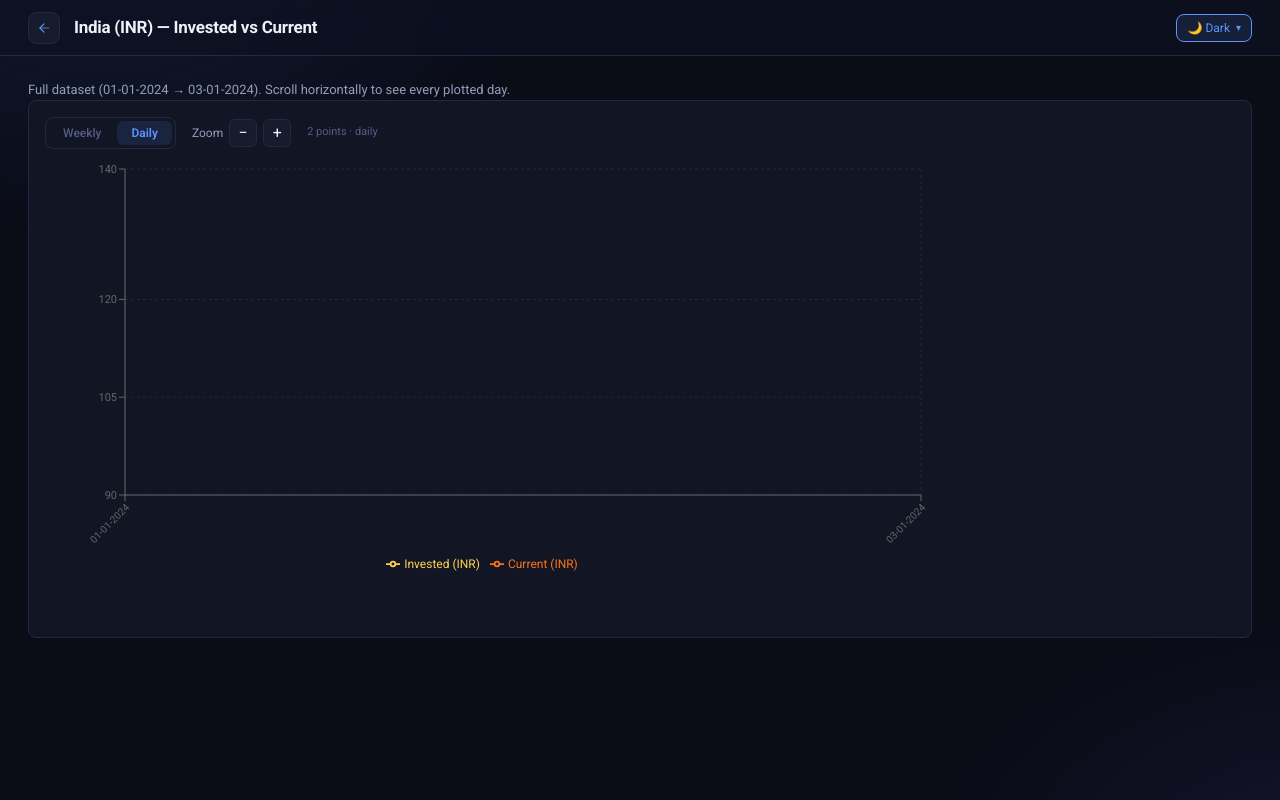
HistoryChartPage › down-samples to weekly close when the Weekly toggle is clicked
Expected: the text "2 points · daily" is shown, [307, 124, 378, 141]
Click the button "Weekly".
click(82, 132)  # box [49, 120, 115, 144]
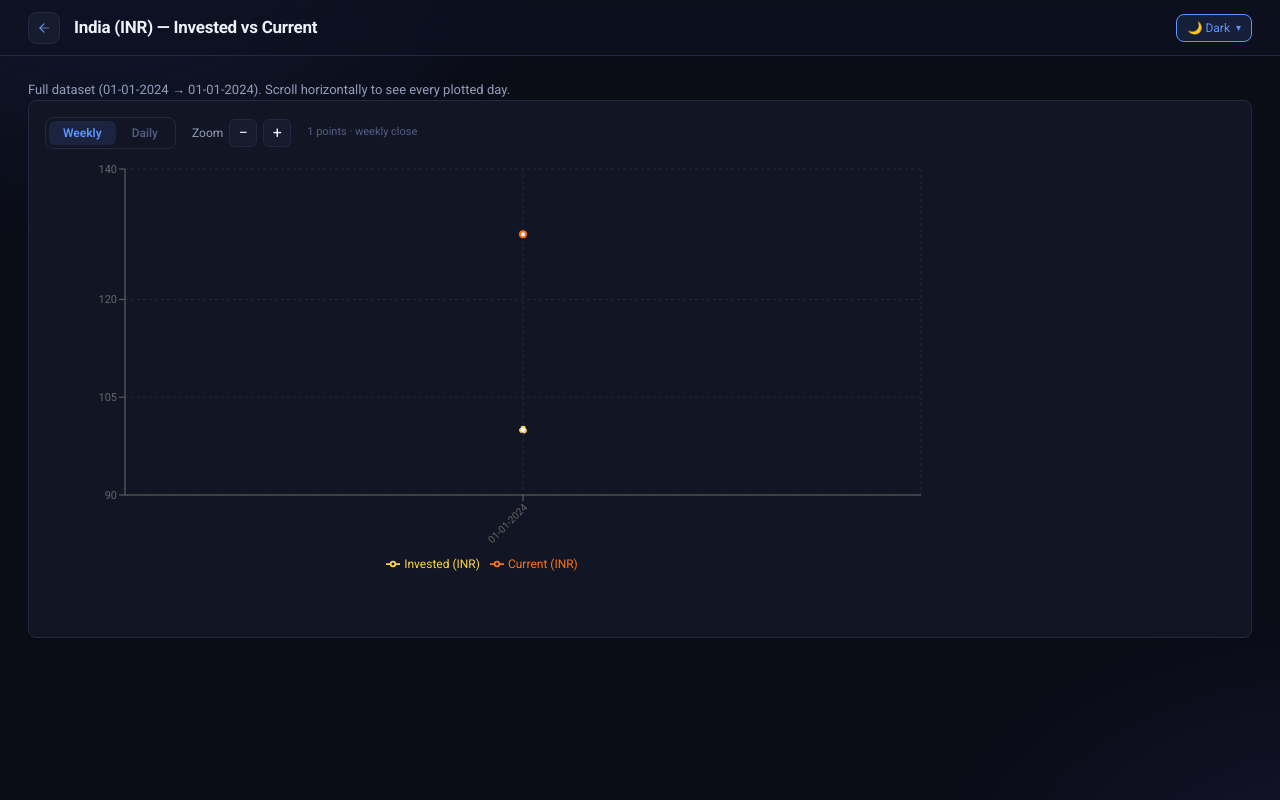
Now the text "1 points · weekly close" is shown, box [307, 124, 417, 141]
